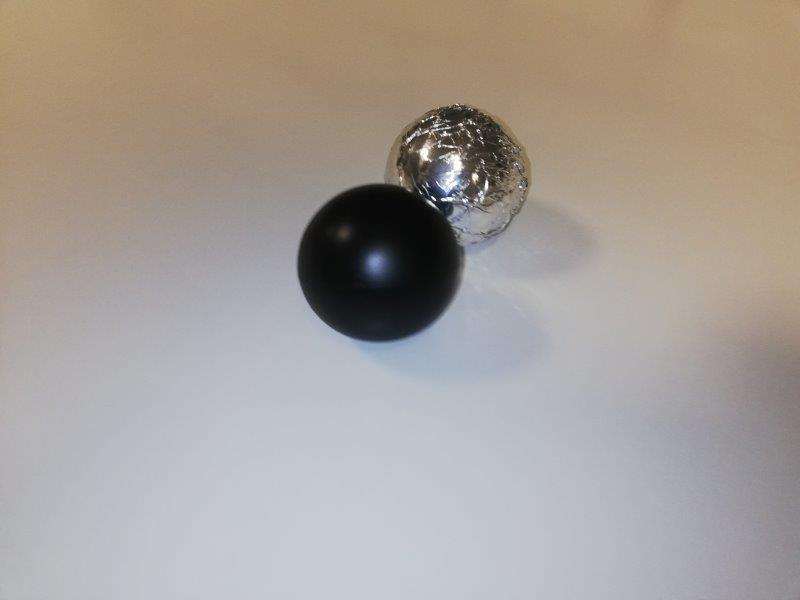bianca: (381, 103, 530, 245)
nera: (295, 185, 464, 342)
